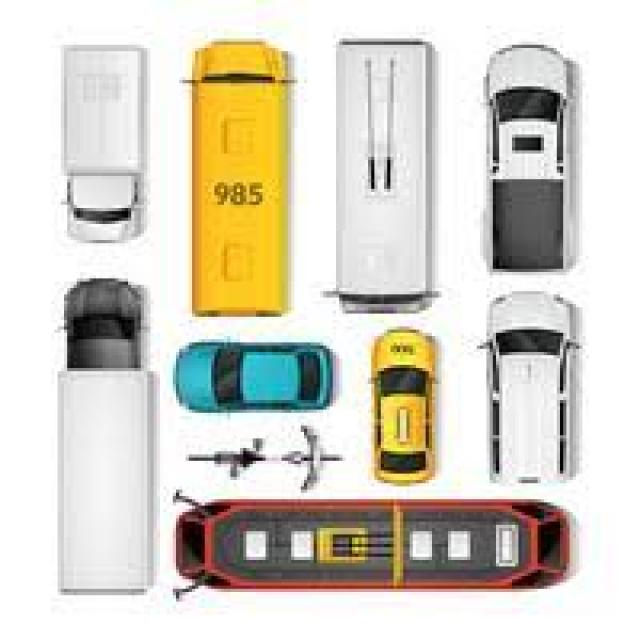truck: (56, 275, 160, 595), (60, 40, 148, 246)
